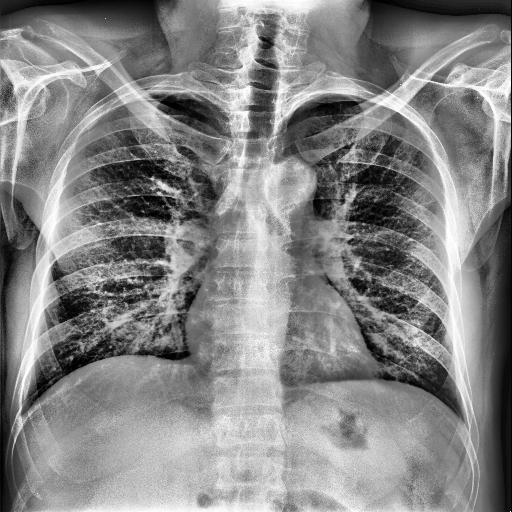0- Aortic enlargement: (268, 155, 316, 207), (262, 155, 316, 199)
11- Pleural thickening: (86, 87, 207, 128), (140, 80, 204, 103), (287, 92, 371, 108), (80, 106, 117, 134)
5- ILD: (63, 157, 159, 359)
